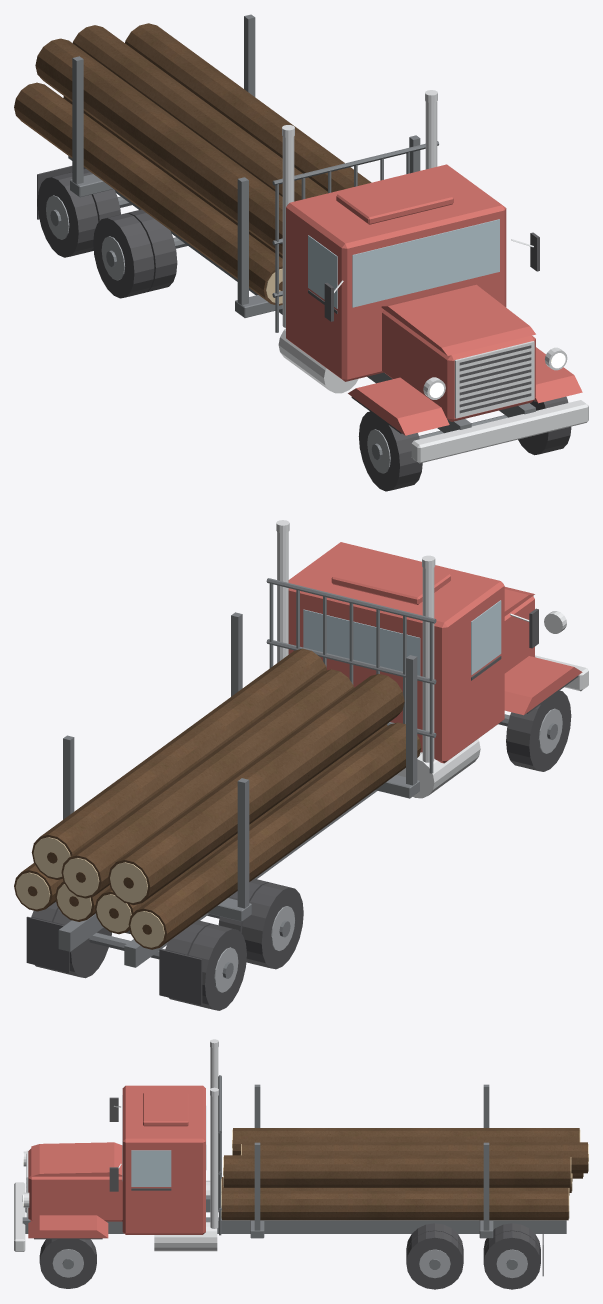
The model's file is log_truck.glb.
The picture shows the model from 3 angles, top to bottom: view 1: azimuth 30°, elevation 25°; view 2: azimuth 150°, elevation 25°; view 3: azimuth 270°, elevation 25°; orthographic projection. The views are drawn at different scales.
Visible parts, largest first — view 1: log_truck_bark, log_truck_truck_r, log_truck_rubber, log_truck_chrome, log_truck_steel_d, log_truck_glass, log_truck_dark, log_truck_steel; view 2: log_truck_bark, log_truck_truck_r, log_truck_rubber, log_truck_steel_d, log_truck_log_end, log_truck_chrome, log_truck_glass, log_truck_steel; view 3: log_truck_bark, log_truck_truck_r, log_truck_steel_d, log_truck_rubber, log_truck_chrome, log_truck_steel, log_truck_glass, log_truck_dark.
Boxes of the visible parts, bbox=[...] form: log_truck_bark: bbox=[14, 23, 371, 305]; log_truck_truck_r: bbox=[286, 164, 582, 435]; log_truck_rubber: bbox=[37, 166, 571, 491]; log_truck_chrome: bbox=[278, 90, 588, 463]; log_truck_steel_d: bbox=[50, 14, 535, 459]; log_truck_glass: bbox=[308, 219, 499, 308]; log_truck_dark: bbox=[308, 232, 539, 413]; log_truck_steel: bbox=[46, 195, 390, 473]; log_truck_bark: bbox=[14, 648, 421, 949]; log_truck_truck_r: bbox=[288, 542, 582, 763]; log_truck_rubber: bbox=[26, 676, 578, 1010]; log_truck_steel_d: bbox=[58, 578, 557, 978]; log_truck_log_end: bbox=[15, 837, 164, 947]; log_truck_chrome: bbox=[276, 520, 588, 798]; log_truck_glass: bbox=[303, 600, 501, 675]; log_truck_steel: bbox=[214, 708, 562, 992]; log_truck_bark: bbox=[222, 1128, 588, 1220]; log_truck_truck_r: bbox=[28, 1085, 205, 1238]; log_truck_steel_d: bbox=[22, 1075, 566, 1269]; log_truck_rubber: bbox=[34, 1223, 543, 1289]; log_truck_chrome: bbox=[14, 1039, 218, 1251]; log_truck_steel: bbox=[52, 1249, 527, 1278]; log_truck_glass: bbox=[122, 1095, 206, 1186]; log_truck_dark: bbox=[26, 1097, 171, 1212].
Bounding box in the file's own units: 2.92 × 3.75 × 10.04.
10 materials, 1 textured.
